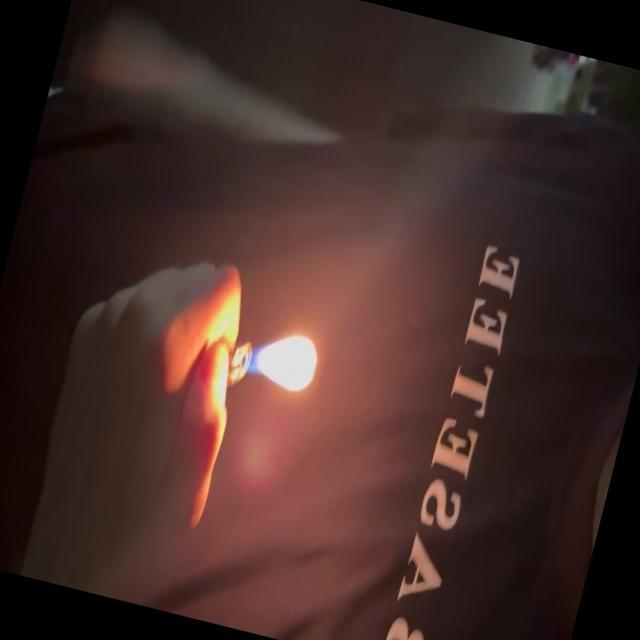Fire: (239, 317, 327, 401)
